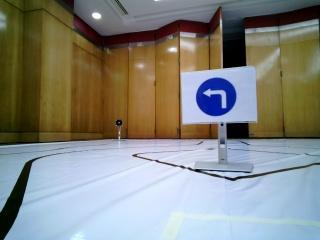left: (182, 74, 254, 117)
